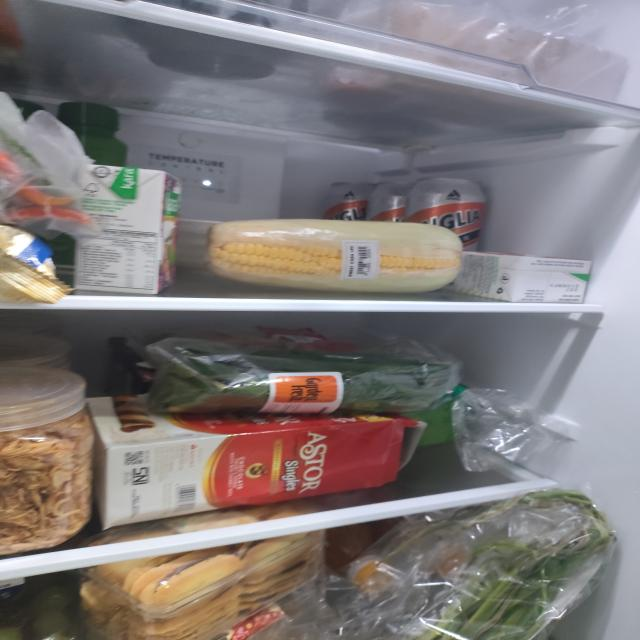chili: (0, 128, 93, 224)
coconut_milk: (72, 163, 182, 295)
corn: (205, 219, 464, 293)
spring_onion: (375, 490, 619, 640)
